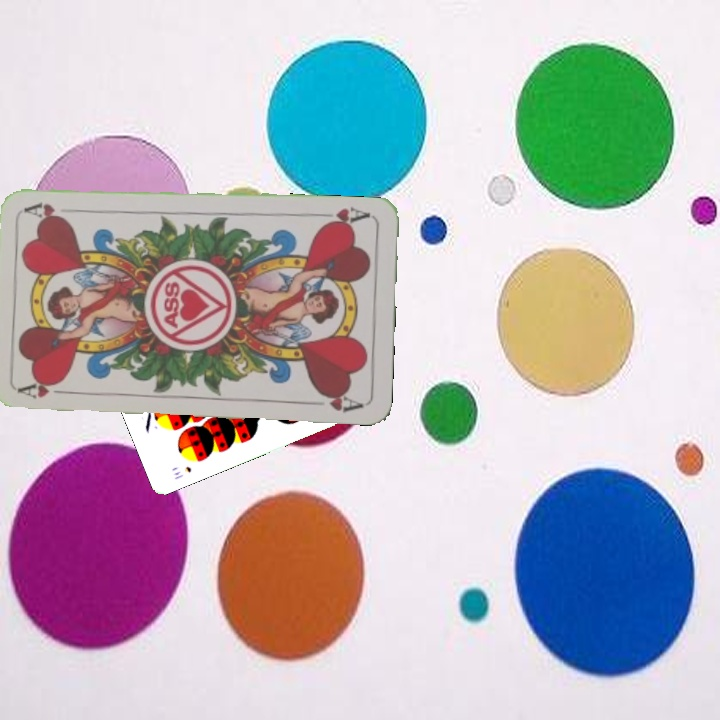HA: (314, 203, 373, 230), (17, 376, 76, 401)
S10: (169, 462, 194, 482)
